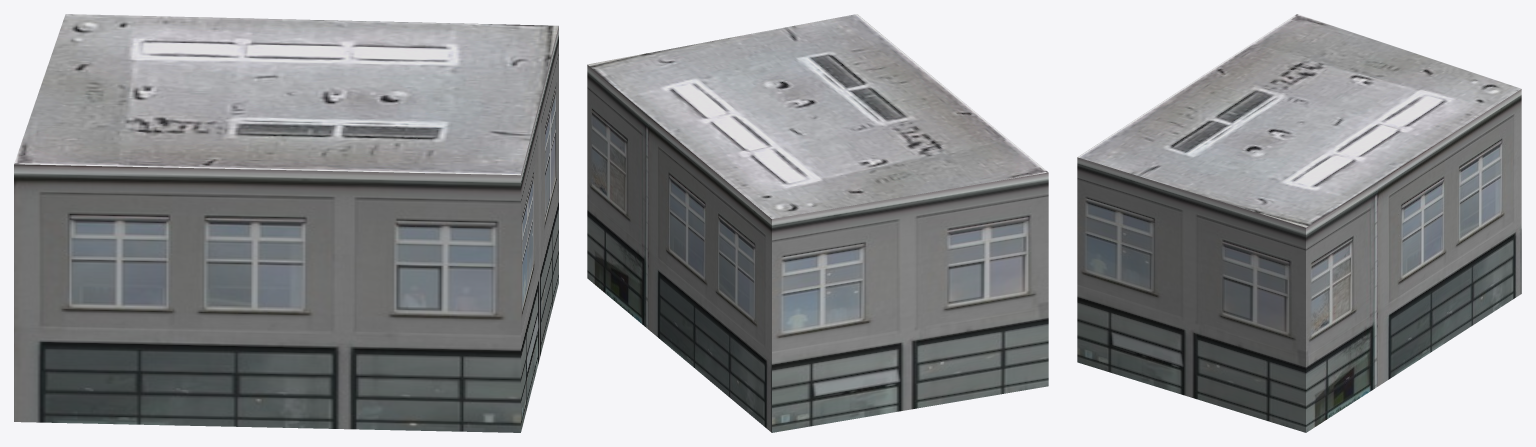
File: EduTex__4.fbx
3 views of the same model, side by side, from view 1: azimuth 30°, elevation 25°; view 2: azimuth 150°, elevation 25°; view 3: azimuth 270°, elevation 25° (orthographic). The views are drawn at different scales.
Visible parts, largest first — view 1: CityEngineMaterial_6_m, CityEngineMaterial_4_m; view 2: CityEngineMaterial_6_m, CityEngineMaterial_4_m; view 3: CityEngineMaterial_6_m, CityEngineMaterial_4_m.
Part boxes in pixels (x1,y1,x2,y2): CityEngineMaterial_6_m: (14, 26, 558, 432); CityEngineMaterial_4_m: (14, 14, 558, 175); CityEngineMaterial_6_m: (587, 65, 1048, 432); CityEngineMaterial_4_m: (587, 14, 1048, 218); CityEngineMaterial_6_m: (1077, 89, 1521, 432); CityEngineMaterial_4_m: (1078, 14, 1521, 227).
Bounding box in the file's own units: 13.41 × 6 × 11.77.
Materials: 2 (2 with a texture image).
